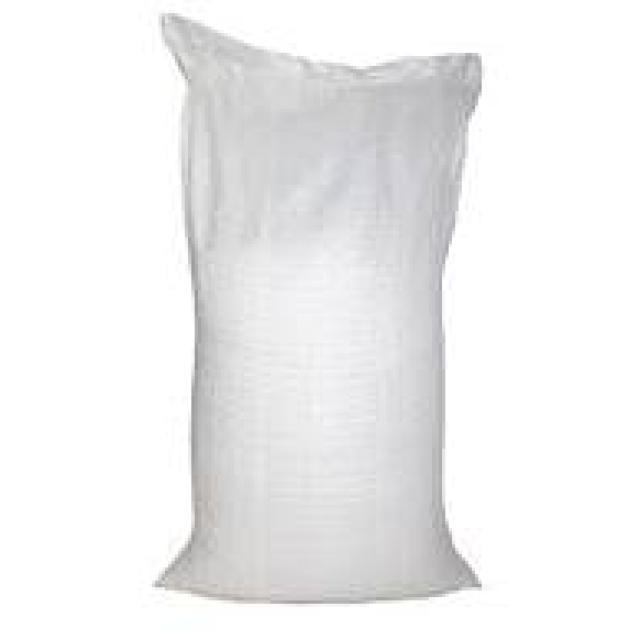gunny_bag: (145, 9, 489, 605)
